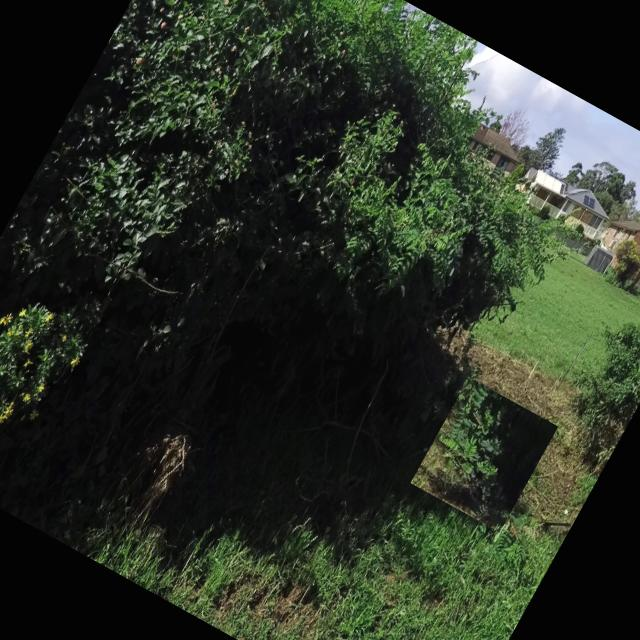Mysore-Thorn-Weed: (410, 378, 558, 532)
